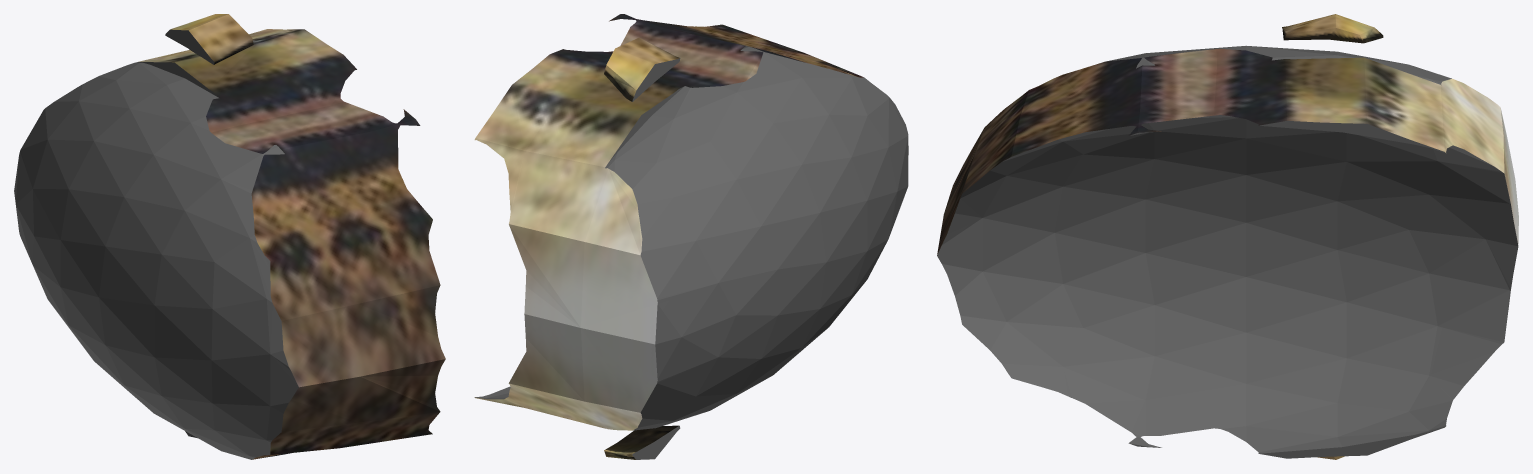
3 renders of one model, left to right at view 1: azimuth 30°, elevation 25°; view 2: azimuth 150°, elevation 25°; view 3: azimuth 270°, elevation 25°, orthographic. The views are drawn at different scales.
Visible parts, largest first — view 1: link_3_visual; view 2: link_3_visual; view 3: link_3_visual.
Boxes of the visible parts, left/top/right/bottom form: link_3_visual: left=14, top=14, right=445, bottom=459; link_3_visual: left=474, top=14, right=908, bottom=459; link_3_visual: left=937, top=14, right=1518, bottom=459.
Size of the model in its own units: 0.00175 by 0.00264 by 0.00323.
1 material, 1 textured.
